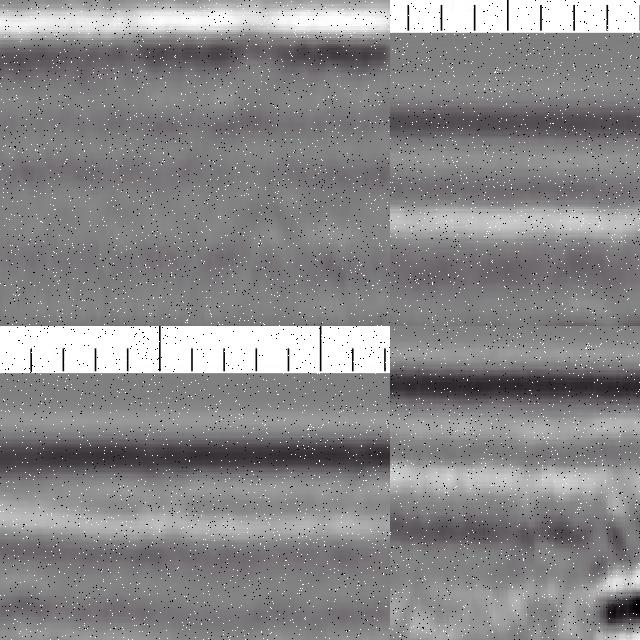crack: (597, 496, 640, 640)
